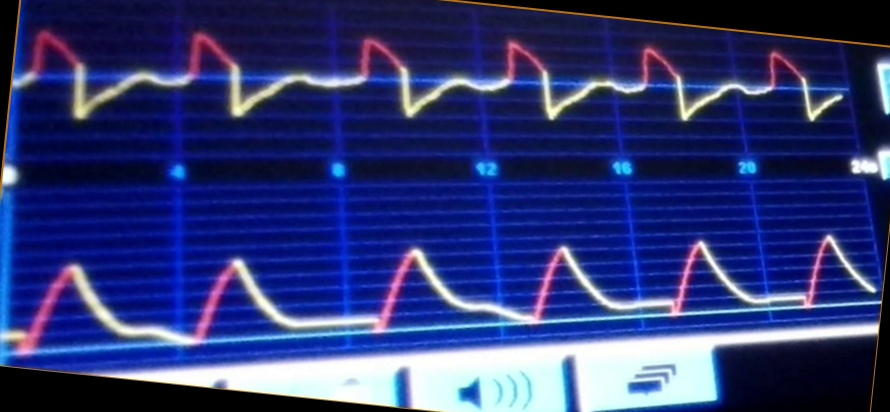Ineffective_effort Flow: (20, 24, 840, 136)
Ineffective_effort Volume: (6, 229, 873, 350)
